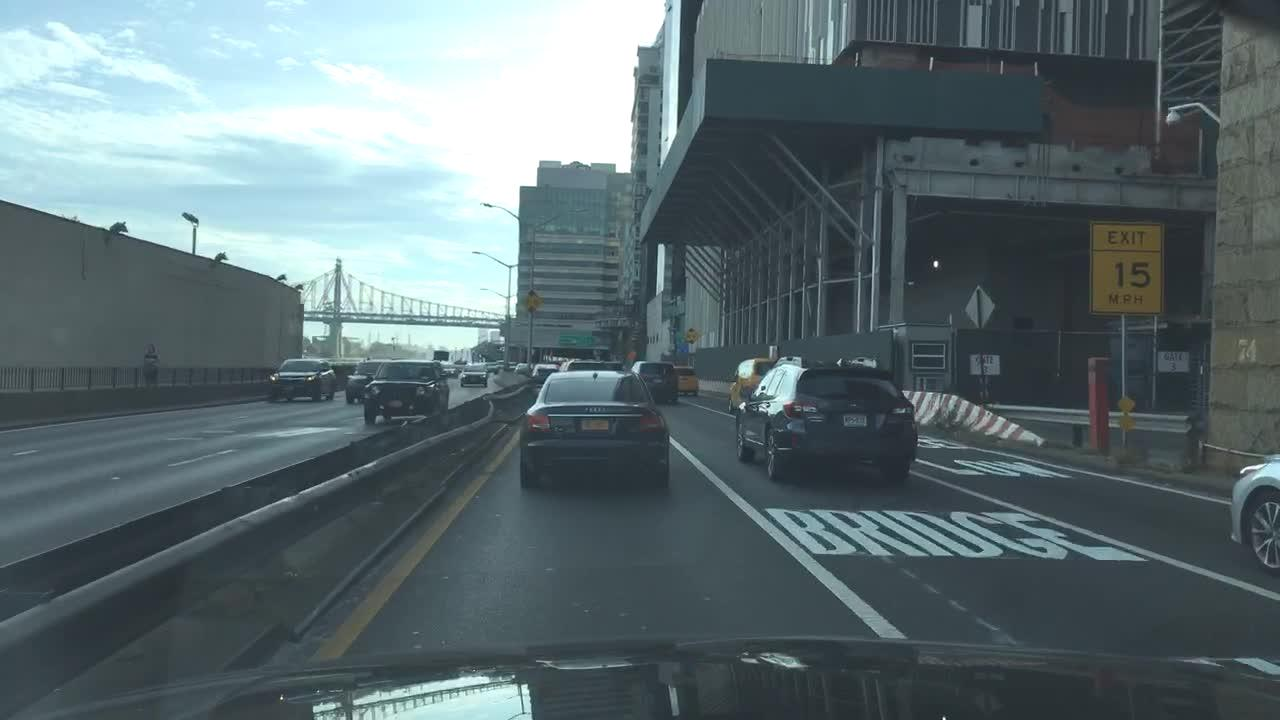Audi: (582, 403, 612, 418)
